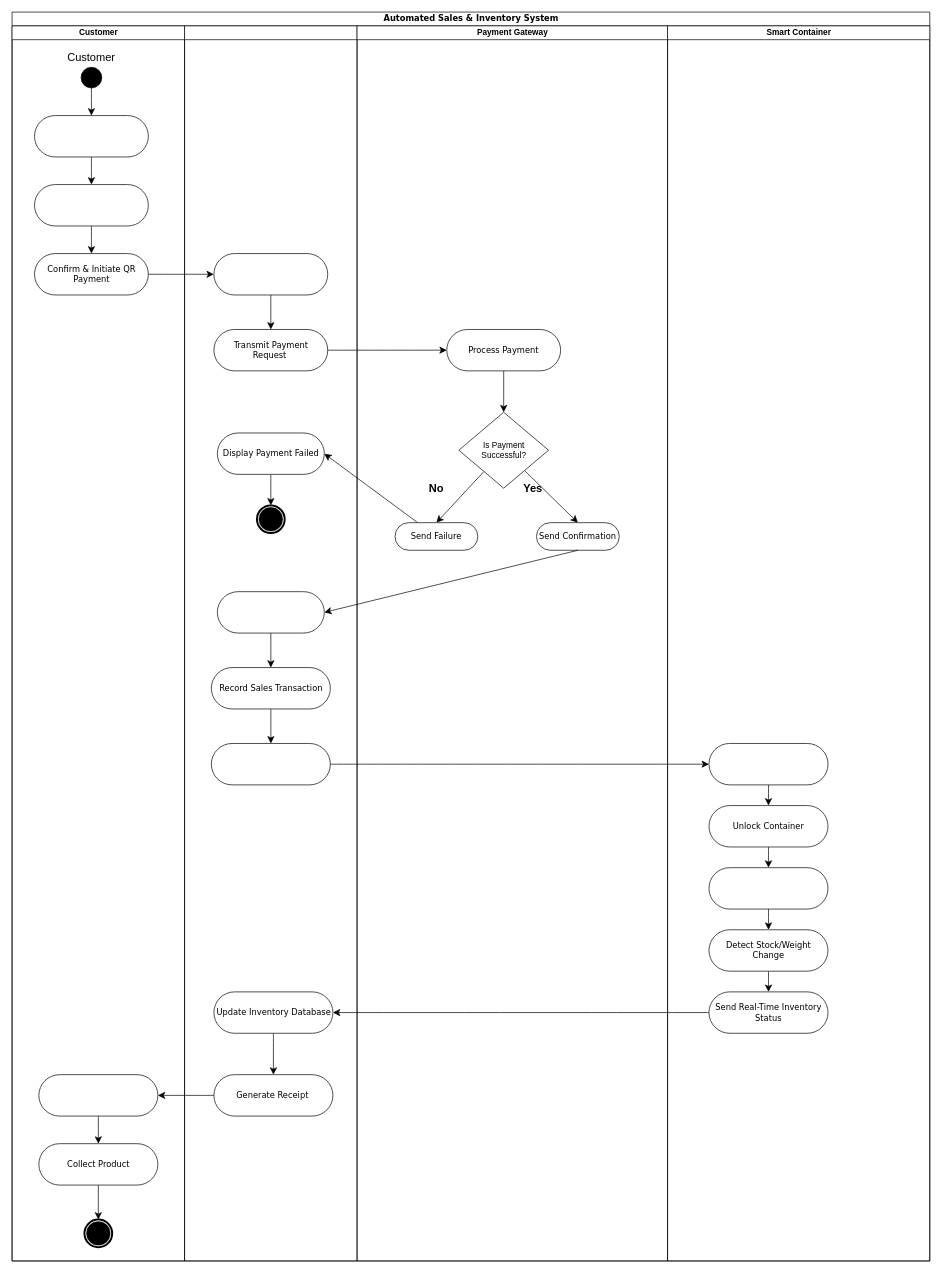
Some shapes in this 942 by 1273 pixel diagram are drawn without their labels. Here are the shapes that lost their labels. From the top down, the box of each, then its label:
(34, 115, 148, 157): Scam Product QR Cde
(34, 184, 148, 226): View Product Details
(213, 253, 328, 295): Generate QR Payment
(217, 591, 324, 633): Receive Payment Confirmation
(184, 25, 357, 1261): System
(211, 743, 330, 785): Send Command to Unlock
(708, 743, 828, 785): Receive Unlock Signal
(708, 867, 828, 909): Customer Takes Product
(38, 1074, 158, 1116): Receive Receipt
